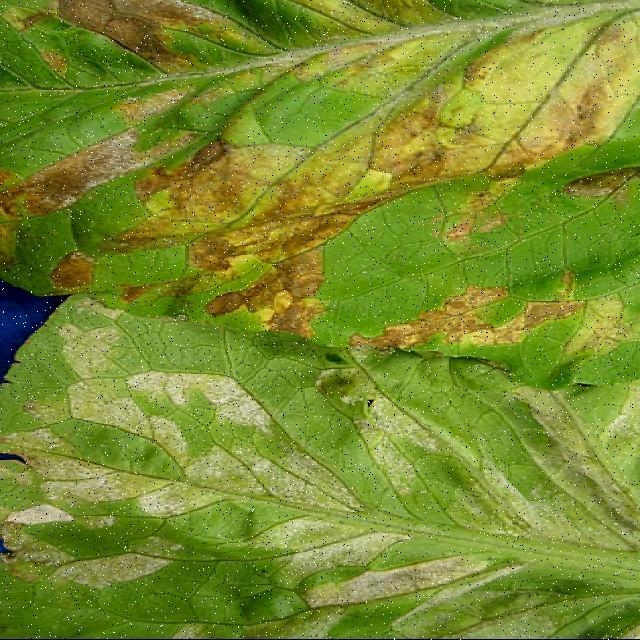Downy_Mildew: (50, 15, 622, 292)
Powdery_Mildew: (16, 364, 534, 623)
